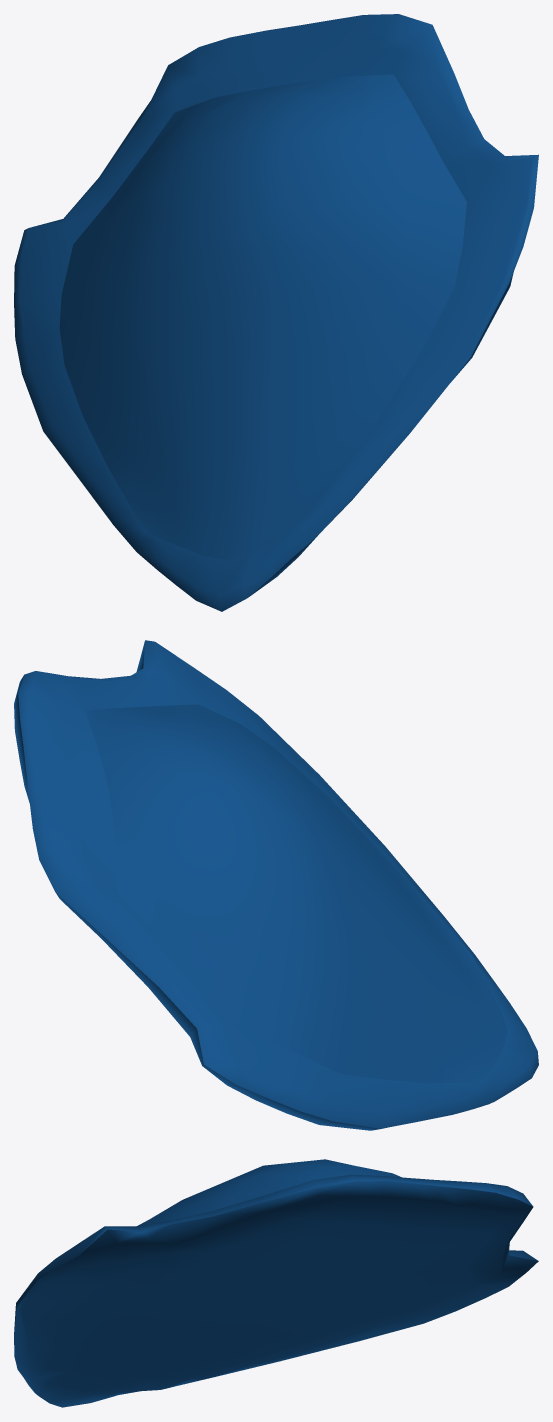
File: Shield_lp.fbx
3 views of the same model, one above another, from view 1: azimuth 30°, elevation 25°; view 2: azimuth 150°, elevation 25°; view 3: azimuth 270°, elevation 25° (orthographic). The views are drawn at different scales.
Visible parts, largest first — view 1: Shield_lp; view 2: Shield_lp; view 3: Shield_lp.
Part boxes in pixels (bbox=[...]): Shield_lp: bbox=[14, 14, 538, 611]; Shield_lp: bbox=[14, 640, 538, 1130]; Shield_lp: bbox=[14, 1159, 538, 1407].
Bounding box in the file's own units: 59.77 × 61.5 × 76.67.
